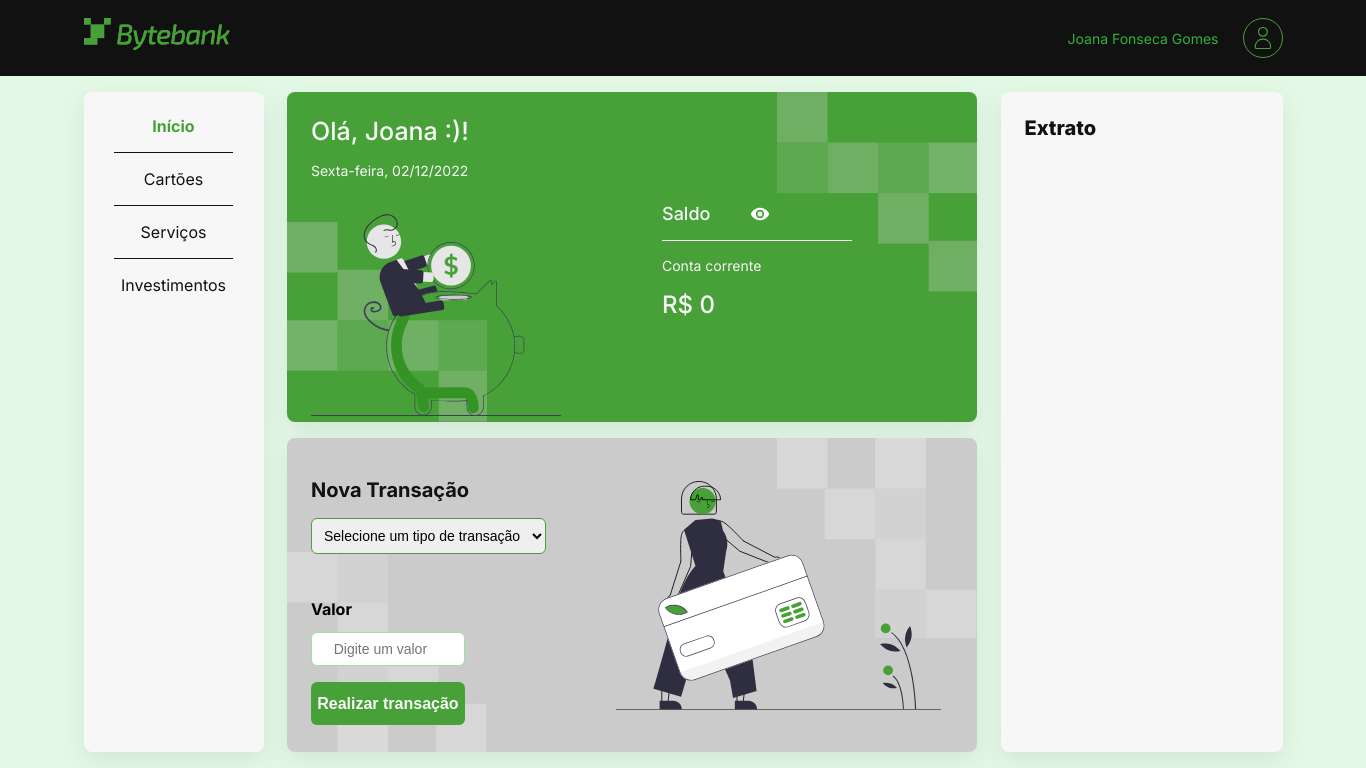
Test: Componente <App /> › Deve permitir adicionar uma nova transação em Extrato
Select "Depósito" in the dropdown at (428, 536), box [311,518,546,554]
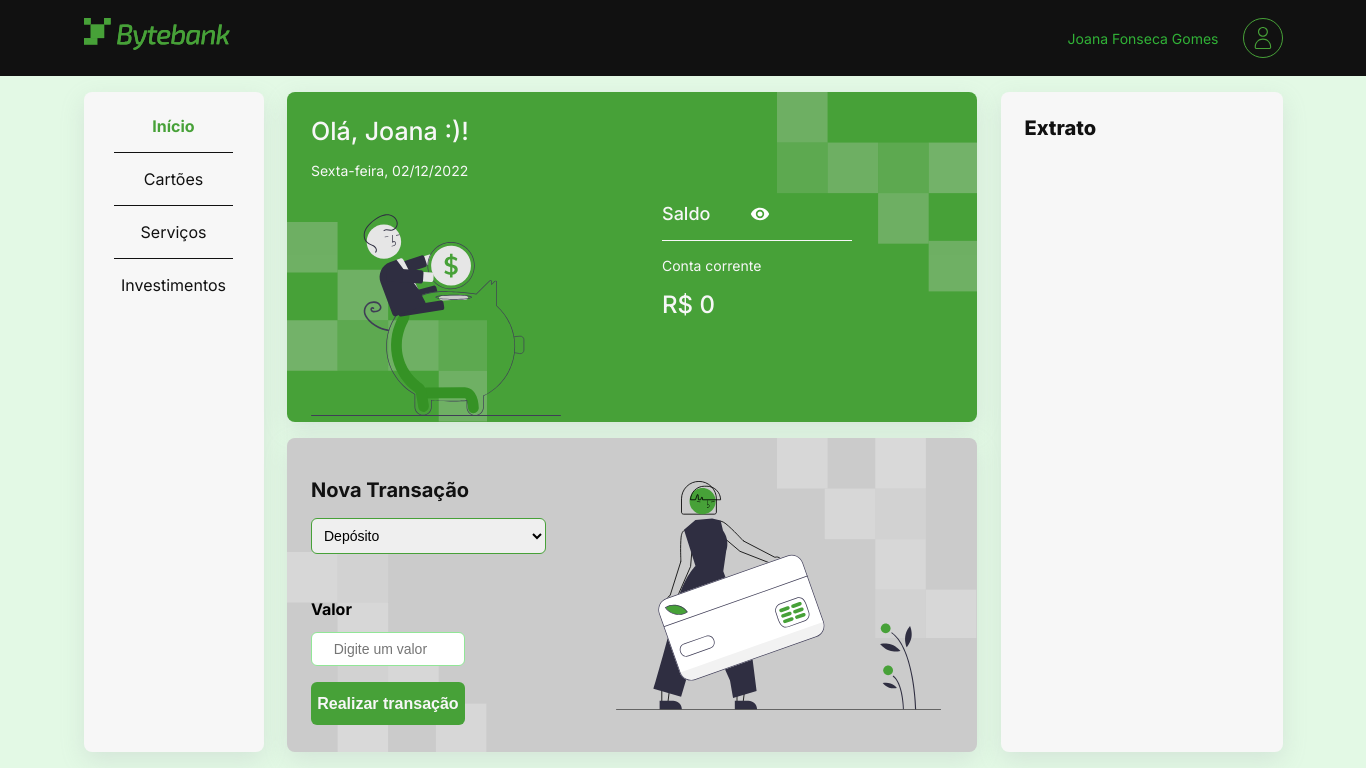
Type "50" into the number field with placeholder "Digite um valor" at (388, 649), box [311,632,465,666]
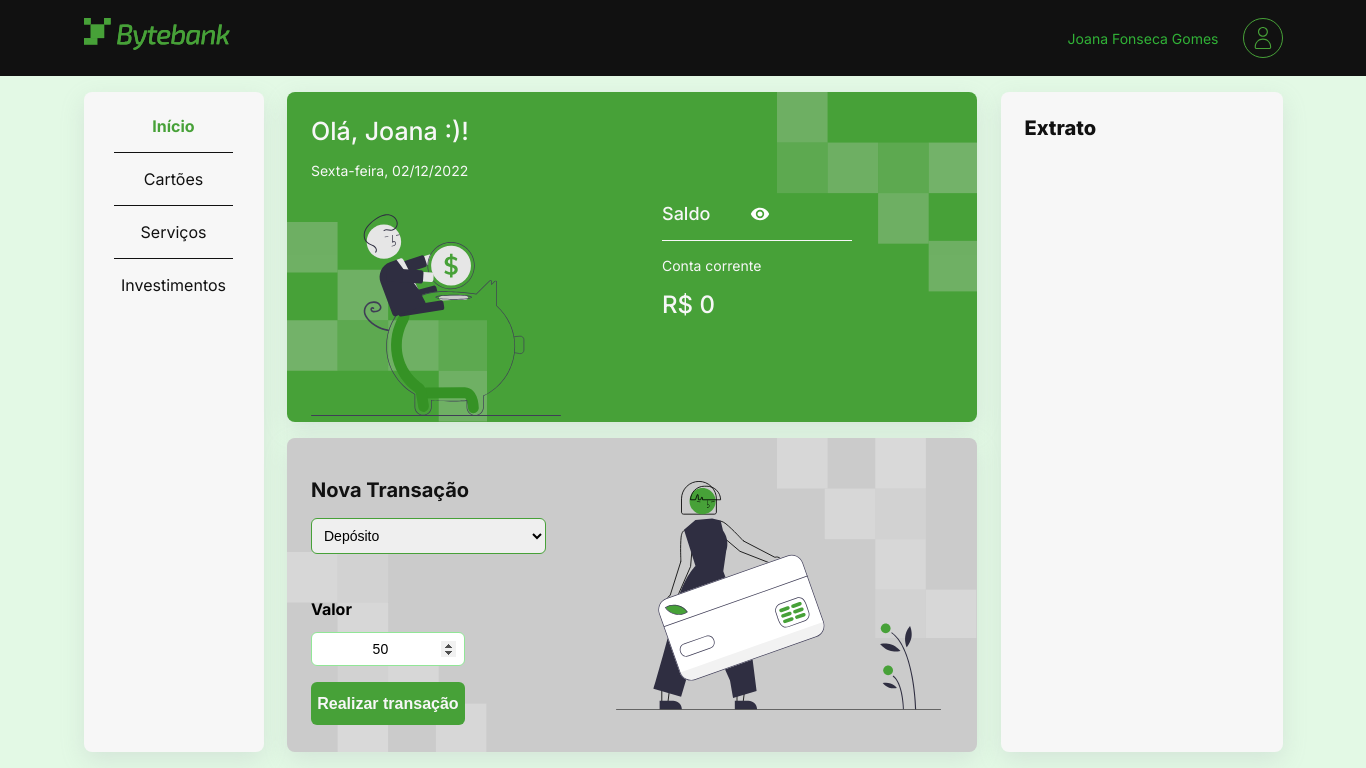
Click the button at (388, 704), box [311,682,465,725]
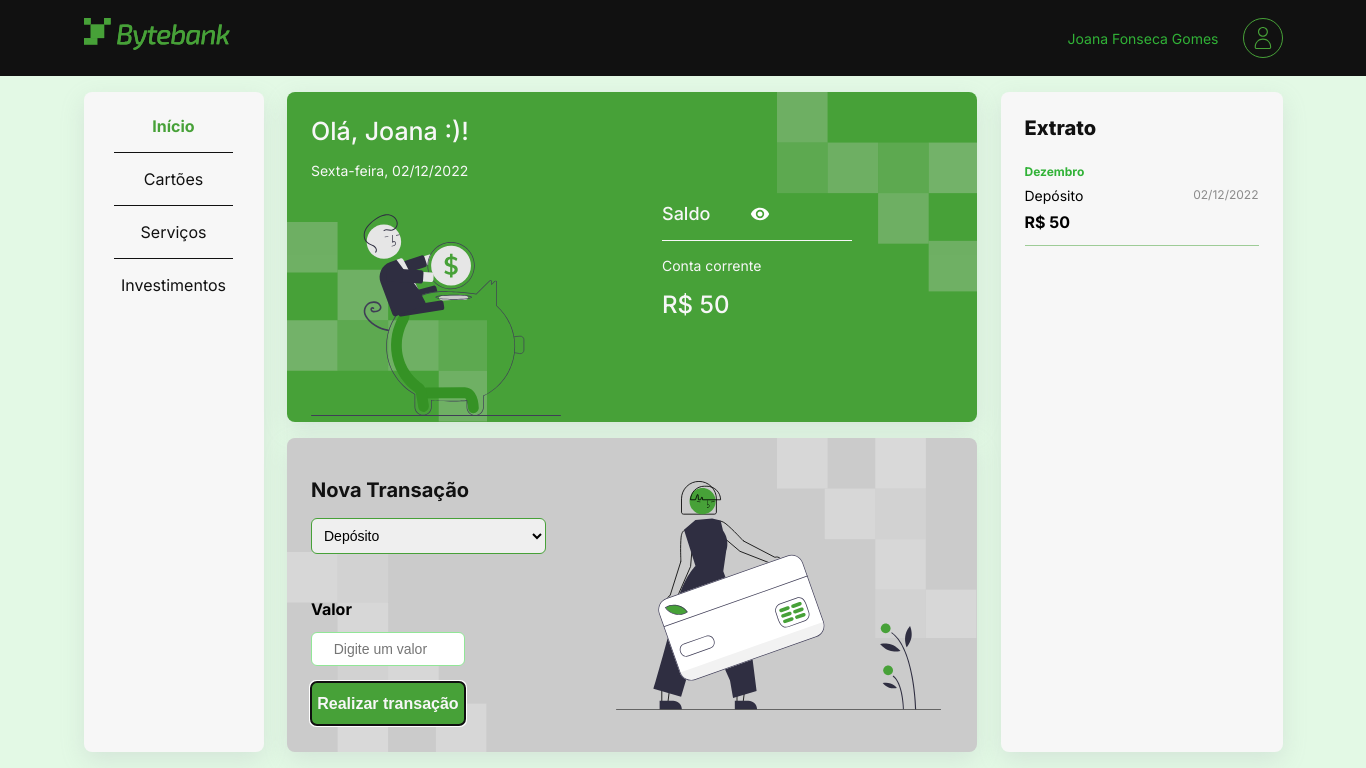
Now the number of list items is 1, box [1024,164,1258,246]
